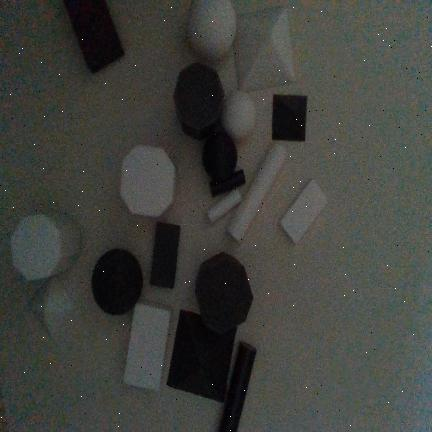Cilindro: (227, 144, 287, 242), (219, 341, 257, 431), (208, 189, 242, 222), (210, 169, 246, 196)
Esfera: (92, 248, 143, 315), (187, 0, 236, 62), (202, 130, 237, 181), (222, 91, 256, 139)
Paralelepipedo: (64, 0, 125, 72), (124, 302, 171, 391), (280, 178, 327, 243), (149, 221, 180, 288)
Piramide: (167, 310, 237, 403), (234, 6, 294, 91), (28, 275, 79, 339), (272, 94, 306, 140), (304, 141, 304, 142)
Prisma_hexagonal: (11, 213, 80, 281), (196, 252, 253, 329), (173, 62, 224, 140), (121, 145, 176, 217)
